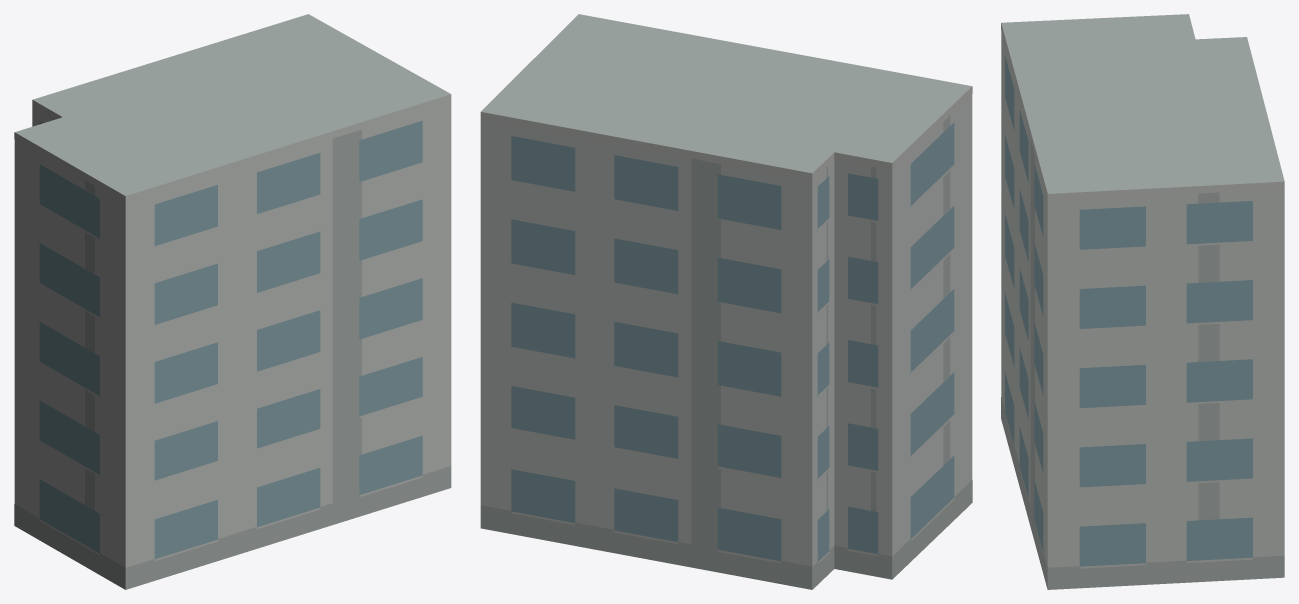
The model's file is survey-upis-33020579.glb.
3 views of the same model, side by side, from view 1: azimuth 30°, elevation 25°; view 2: azimuth 150°, elevation 25°; view 3: azimuth 270°, elevation 25° (orthographic). The views are drawn at different scales.
Parts seen in each view (by area): view 1: survey-upis-33020579.tmp; view 2: survey-upis-33020579.tmp; view 3: survey-upis-33020579.tmp.
Boxes of the visible parts, x1,y1,x2,y2 form: survey-upis-33020579.tmp: [14, 14, 451, 589]; survey-upis-33020579.tmp: [480, 14, 972, 589]; survey-upis-33020579.tmp: [1001, 14, 1284, 589].
Bounding box in the file's own units: 12.77 × 13.1 × 8.51.
